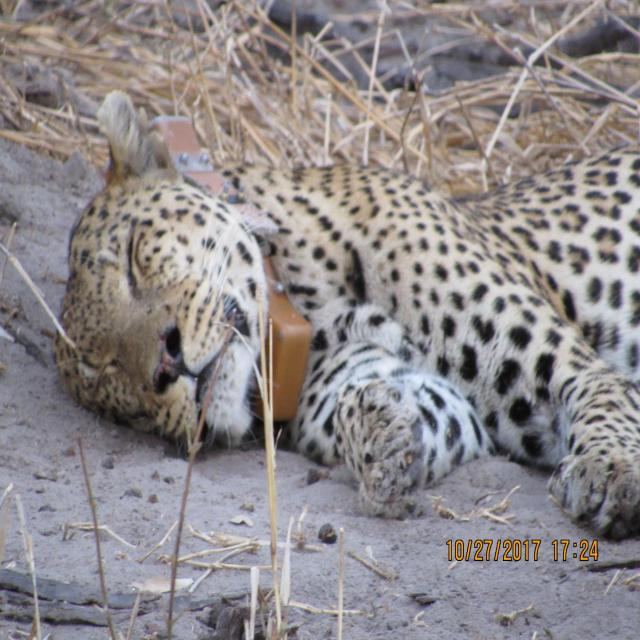Leopard: (22, 66, 640, 554)
